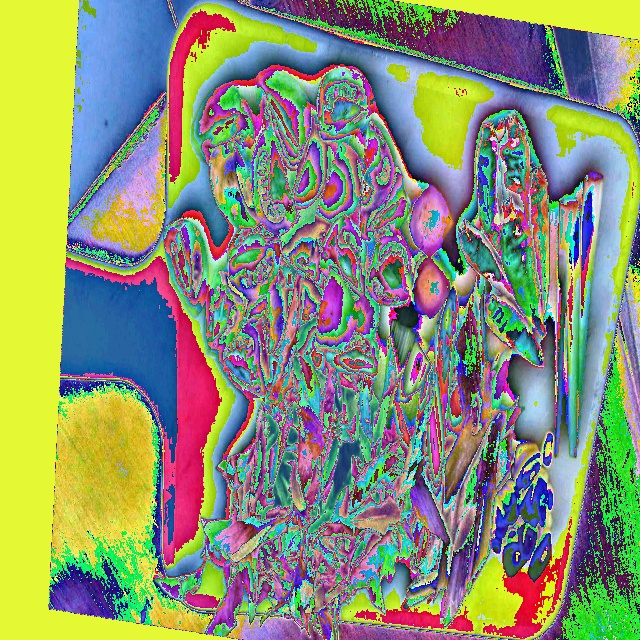background: (155, 68, 603, 639), (44, 100, 208, 318)
